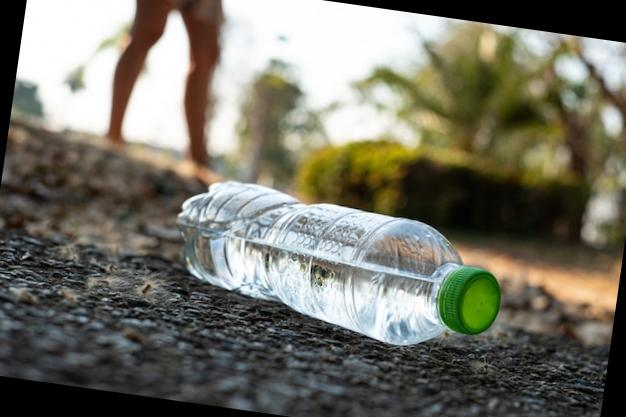trash: (177, 180, 498, 344)
